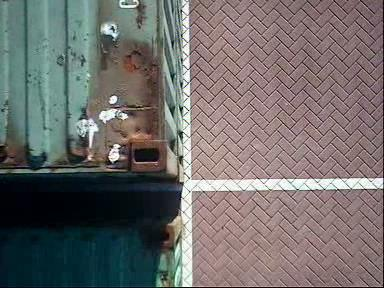groundmarker_2: (36, 169, 115, 233)
